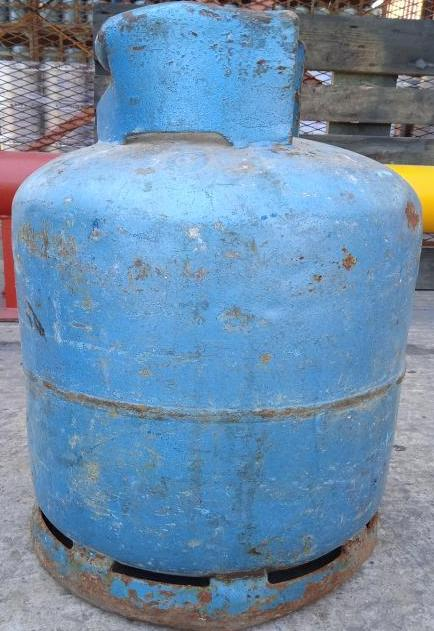cylinder: (1, 0, 434, 631)
